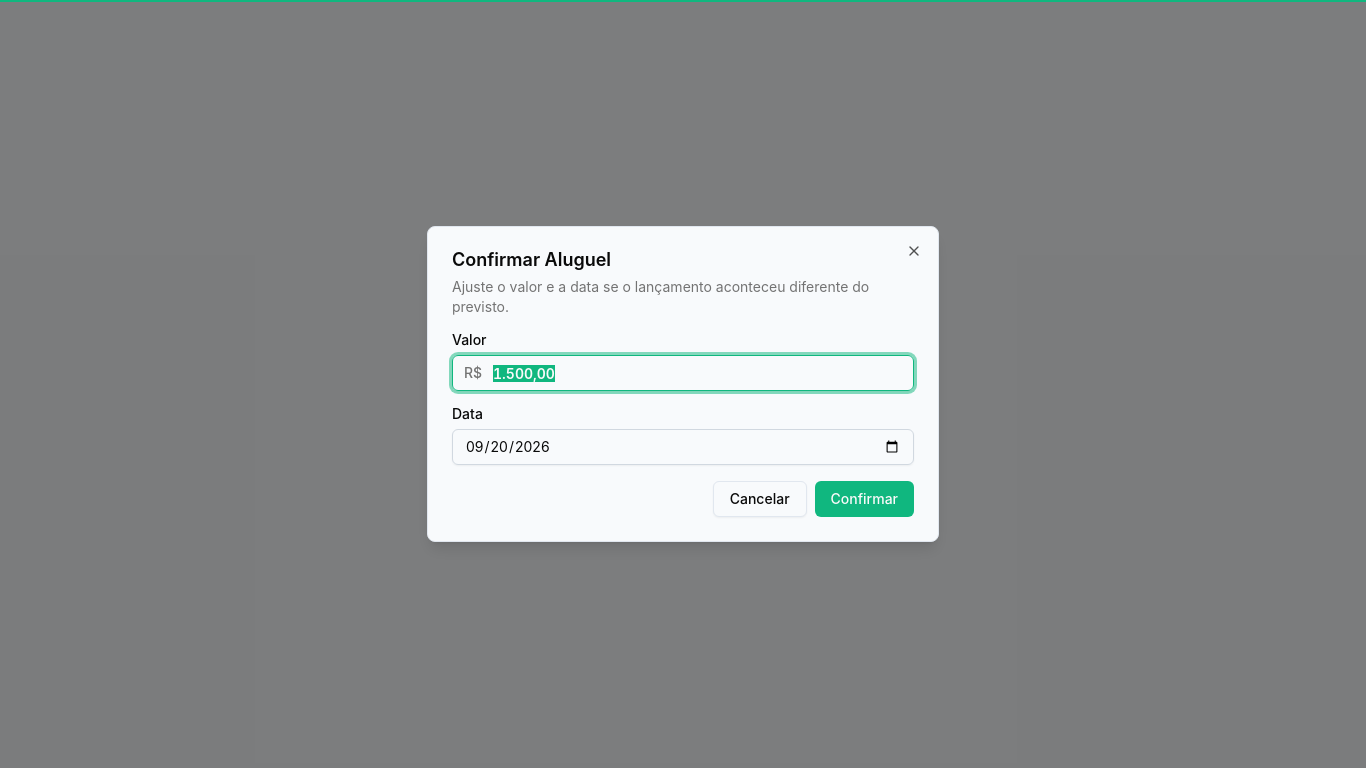
Test: ConfirmOccurrenceDialog › 422 do servidor em date aparece no campo
The image size is (1366, 768).
Click the button "Confirmar".
click(864, 499)  # box top-left (815, 481), bottom-right (914, 517)
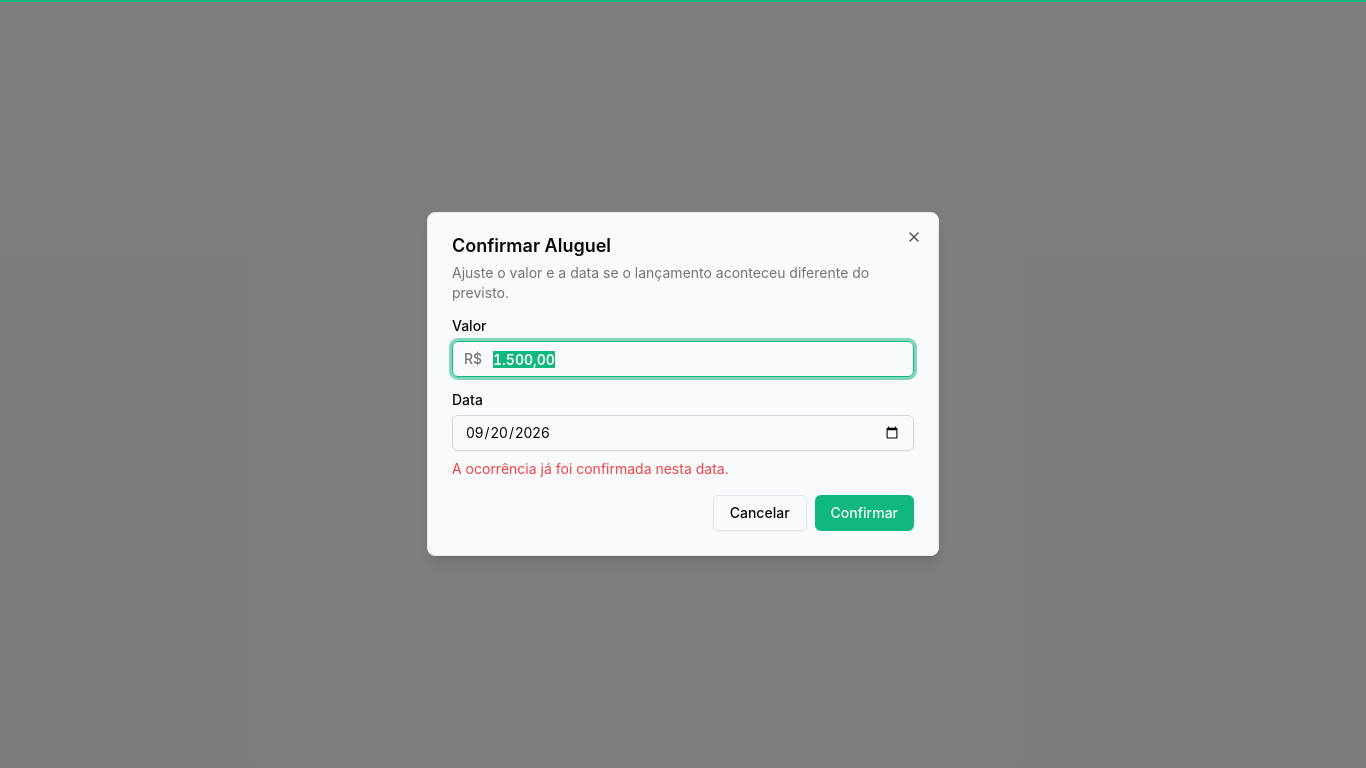
Expected: the text "A ocorrência já foi confirmada nesta data." is shown, top-left (452, 460), bottom-right (729, 477)
